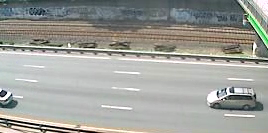car: (203, 83, 259, 112)
